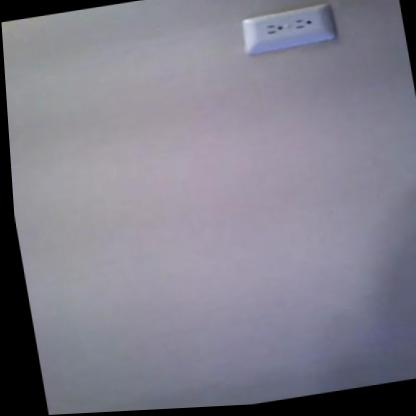OUTLET: (239, 3, 336, 52)
